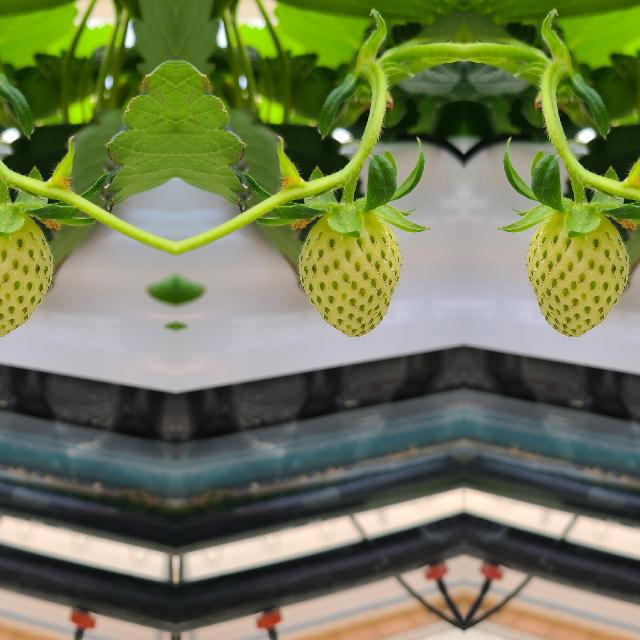Health_25: (294, 212, 402, 340), (524, 212, 632, 340), (0, 212, 56, 340)
